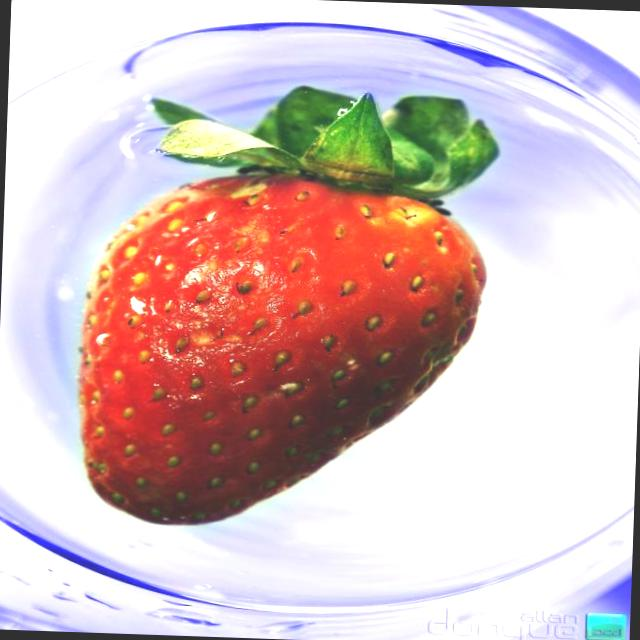Strawberry: (71, 78, 499, 536)
